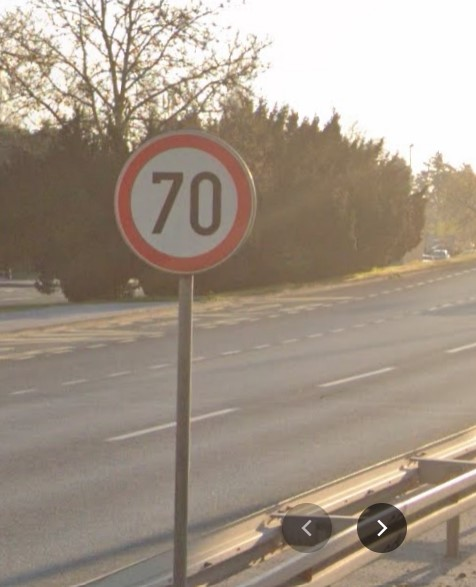Ograničenje brzine 70: (115, 130, 255, 275)
